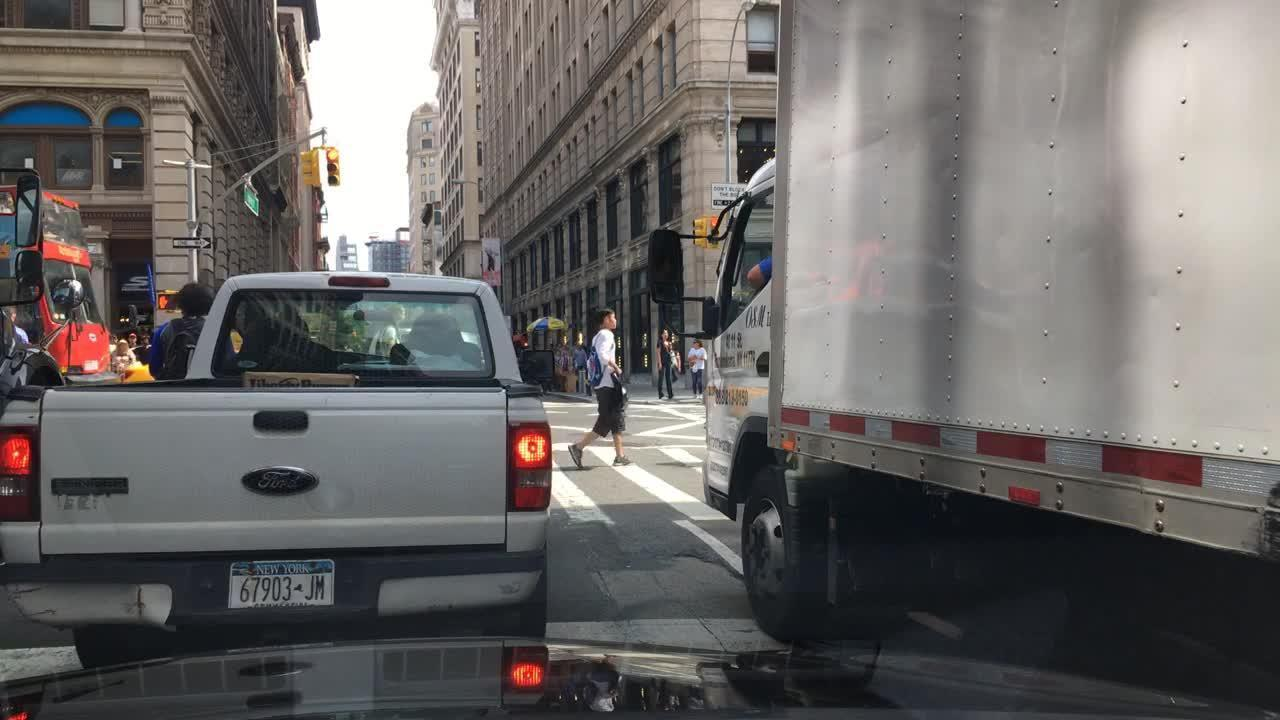ford: (236, 456, 337, 502)
